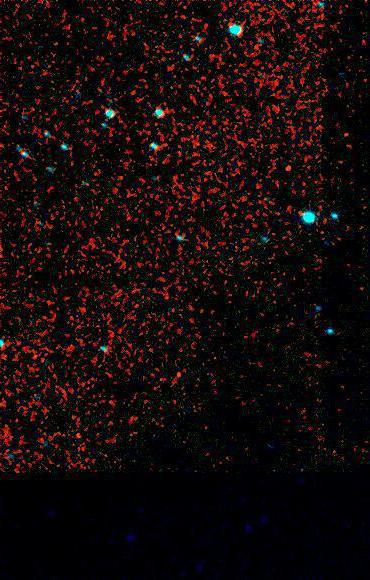star: (272, 149, 302, 179)
